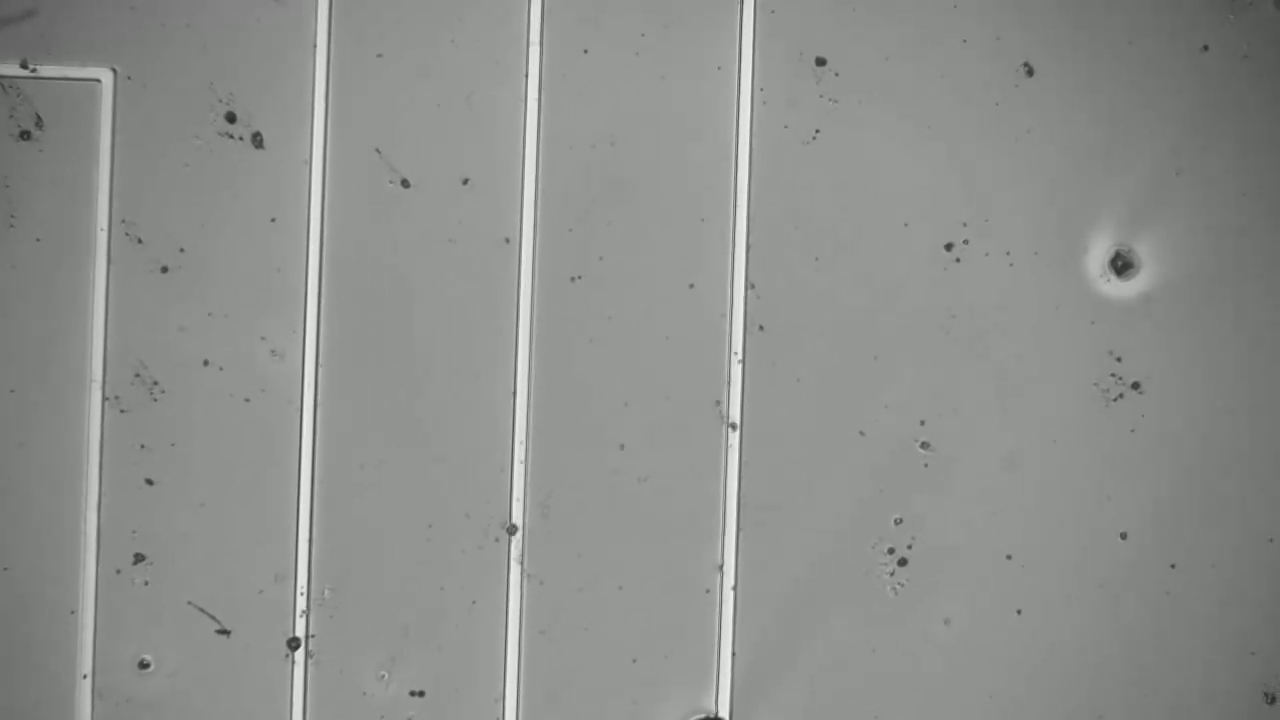stains_enbedded: (276, 625, 318, 659), (11, 53, 36, 81), (501, 517, 527, 542)
